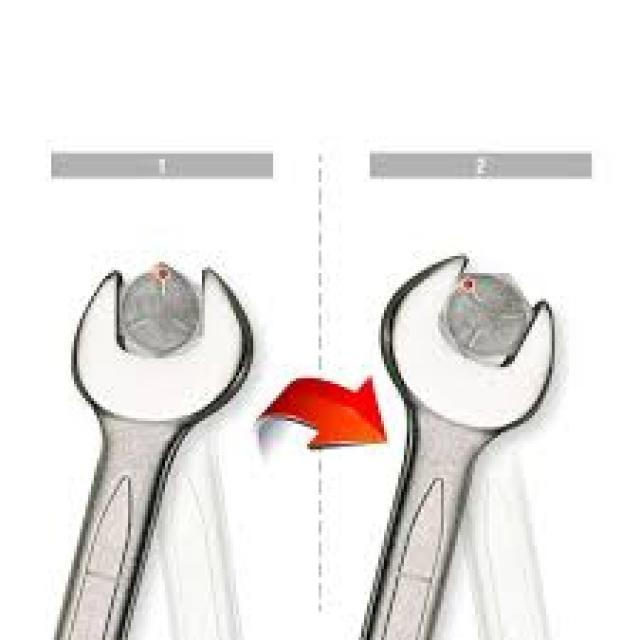wrench: (359, 248, 565, 640), (56, 253, 264, 640)
